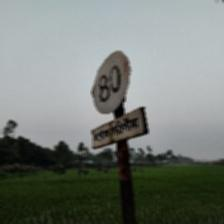Speed-limit: (89, 49, 148, 148)
